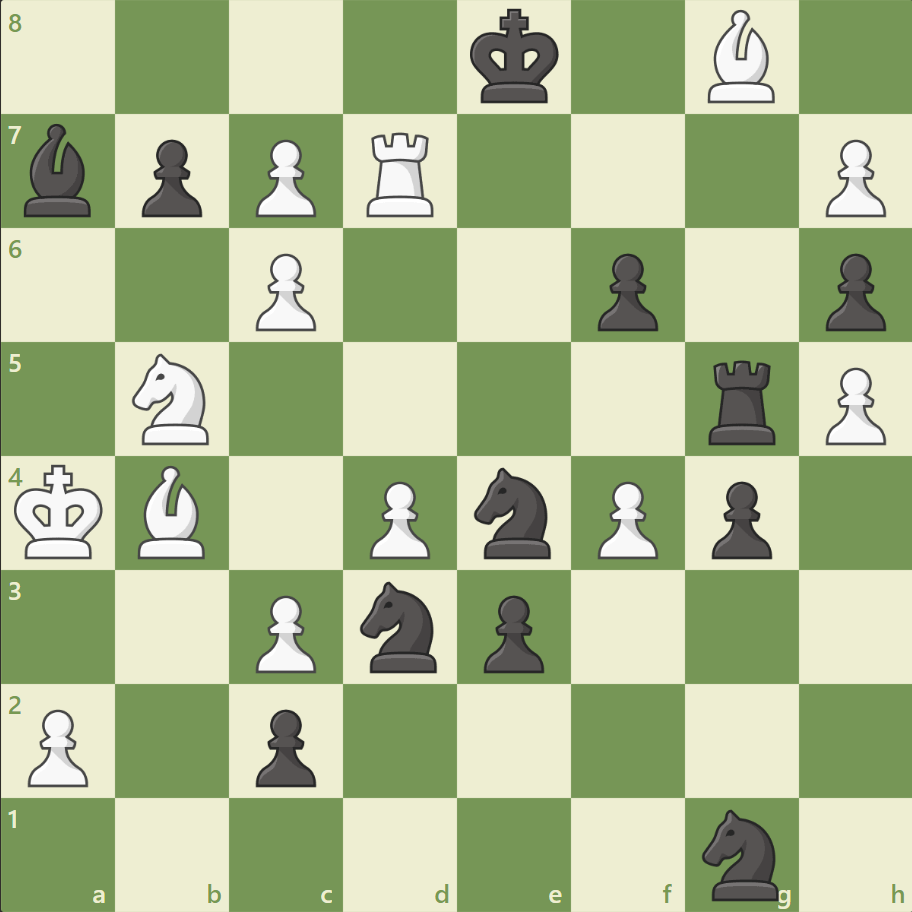B: (698, 6, 782, 109), (131, 460, 215, 563)
K: (11, 458, 111, 566)
N: (124, 348, 222, 450)
P: (247, 132, 322, 223), (247, 246, 322, 337), (247, 586, 322, 677), (20, 700, 95, 791), (815, 132, 889, 223), (815, 359, 889, 450), (361, 473, 435, 564), (588, 473, 662, 564)
R: (360, 125, 442, 222)
b: (17, 120, 101, 222)
k: (465, 4, 565, 112)
n: (351, 575, 449, 677), (465, 461, 562, 564), (692, 802, 789, 904)
p: (133, 132, 208, 223), (701, 473, 776, 564), (474, 586, 549, 677), (247, 700, 322, 791), (588, 246, 662, 337), (815, 246, 889, 337)
r: (700, 352, 783, 449)
